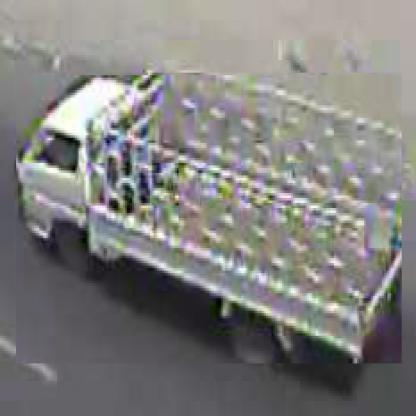truck: (17, 74, 405, 367)
